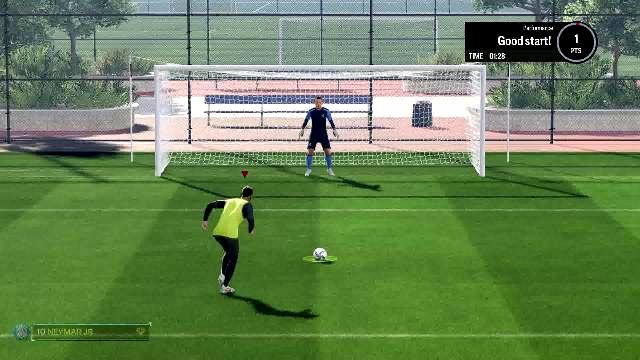bottom-left: (168, 133, 264, 177)
bottom-right: (372, 131, 472, 175)
center-down: (264, 130, 368, 176)
center-up: (268, 77, 368, 130)
circle: (300, 256, 340, 264)
football: (313, 248, 329, 262)
goalkeeper: (300, 97, 344, 179)
player: (196, 185, 258, 301)
top-left: (168, 75, 266, 129)
top-right: (366, 78, 469, 132)
